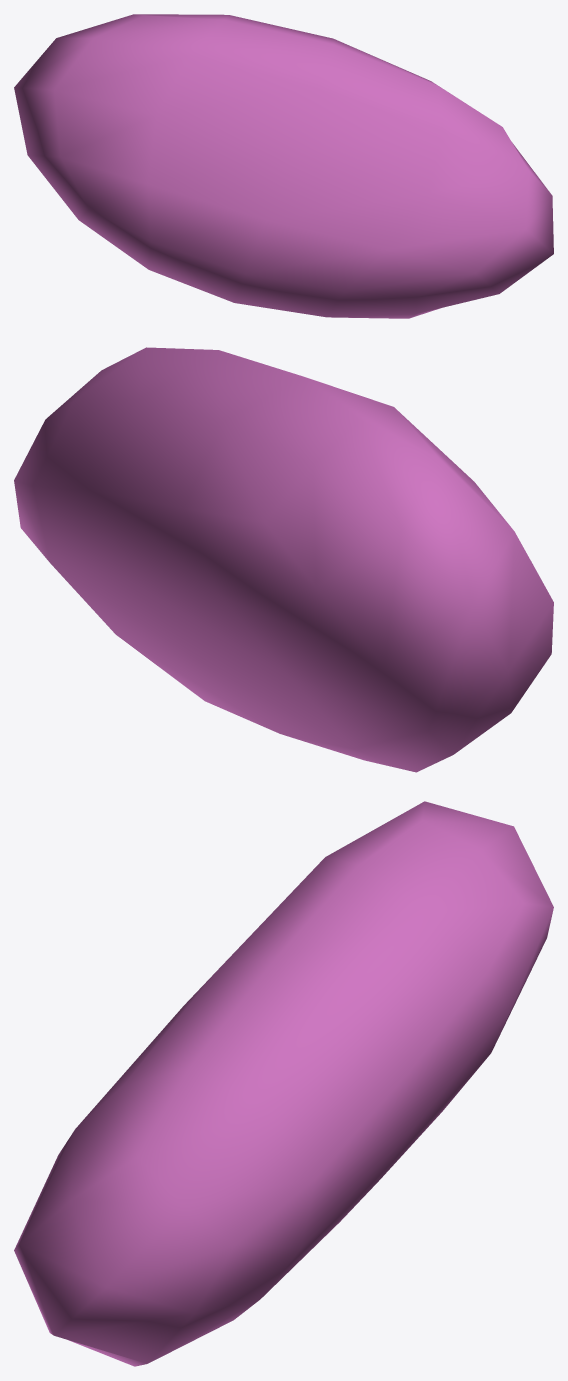
3 views of the same model, one above another, from view 1: azimuth 30°, elevation 25°; view 2: azimuth 150°, elevation 25°; view 3: azimuth 270°, elevation 25° (orthographic). The views are drawn at different scales.
Parts seen in each view (by area): view 1: 左侧上甲状旁腺; view 2: 左侧上甲状旁腺; view 3: 左侧上甲状旁腺.
Boxes of the visible parts, box(x1,y1,x2,y2) form: 左侧上甲状旁腺: box(14, 14, 553, 318); 左侧上甲状旁腺: box(14, 347, 553, 772); 左侧上甲状旁腺: box(14, 801, 553, 1366).
Size of the model in its own units: 0.00572 by 0.00371 by 0.00454.
